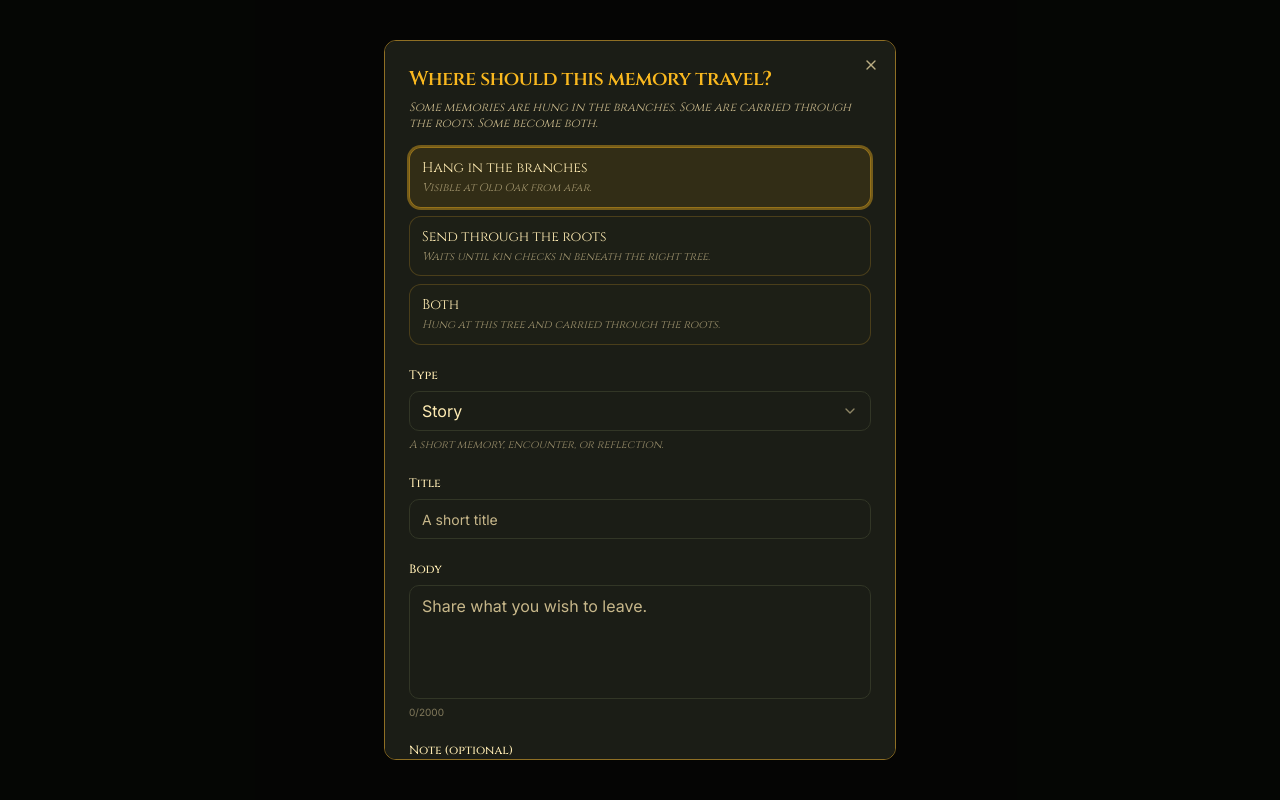
Test case: MemorySeedComposer submit flow › 3. both success — one of each insert + send, both events fire once
Click the text "Both".
click(441, 304)  # box 422,295 -> 459,314
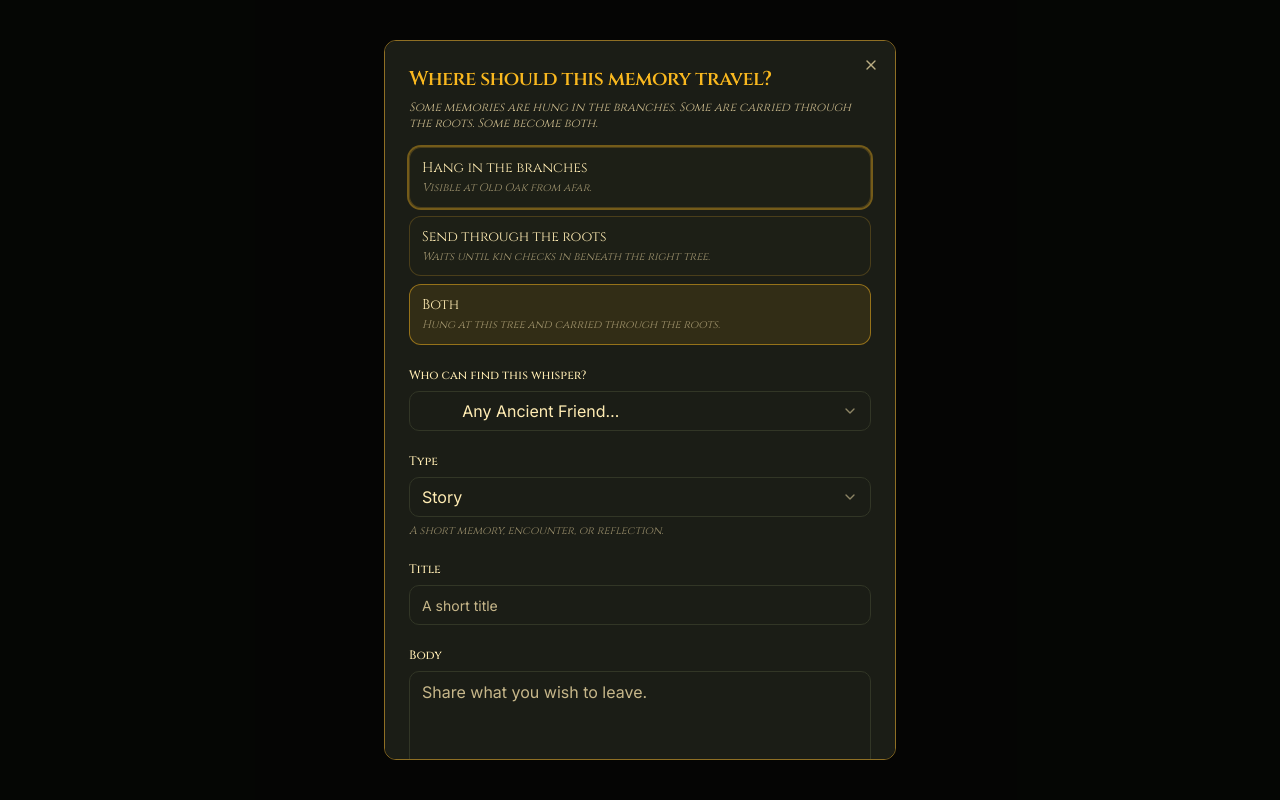
Type "Hello" into the field labelled "Title".
click(640, 605); type("Hello")  # box 409,585 -> 871,625
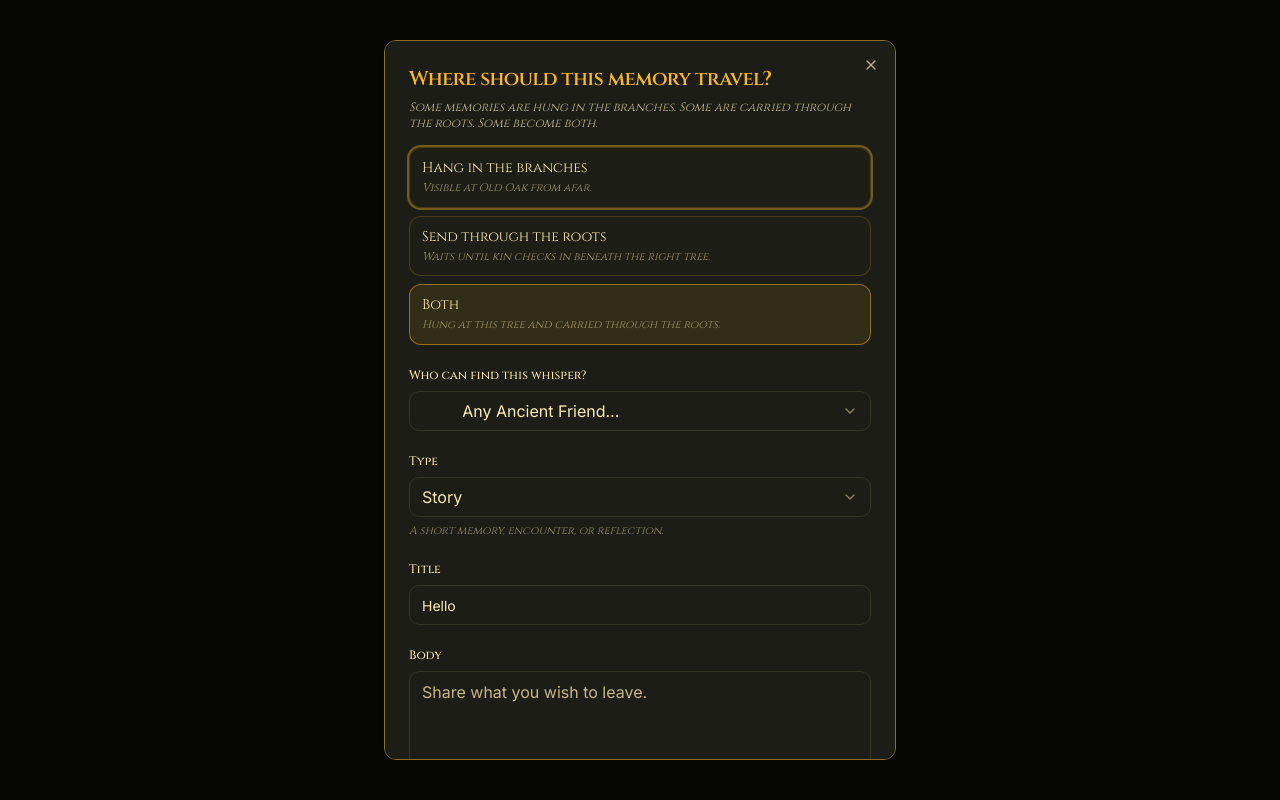
Type "Body text" into the text box labelled "Body".
click(640, 728); type("Body text")  # box 409,671 -> 871,785
(page scrolled)
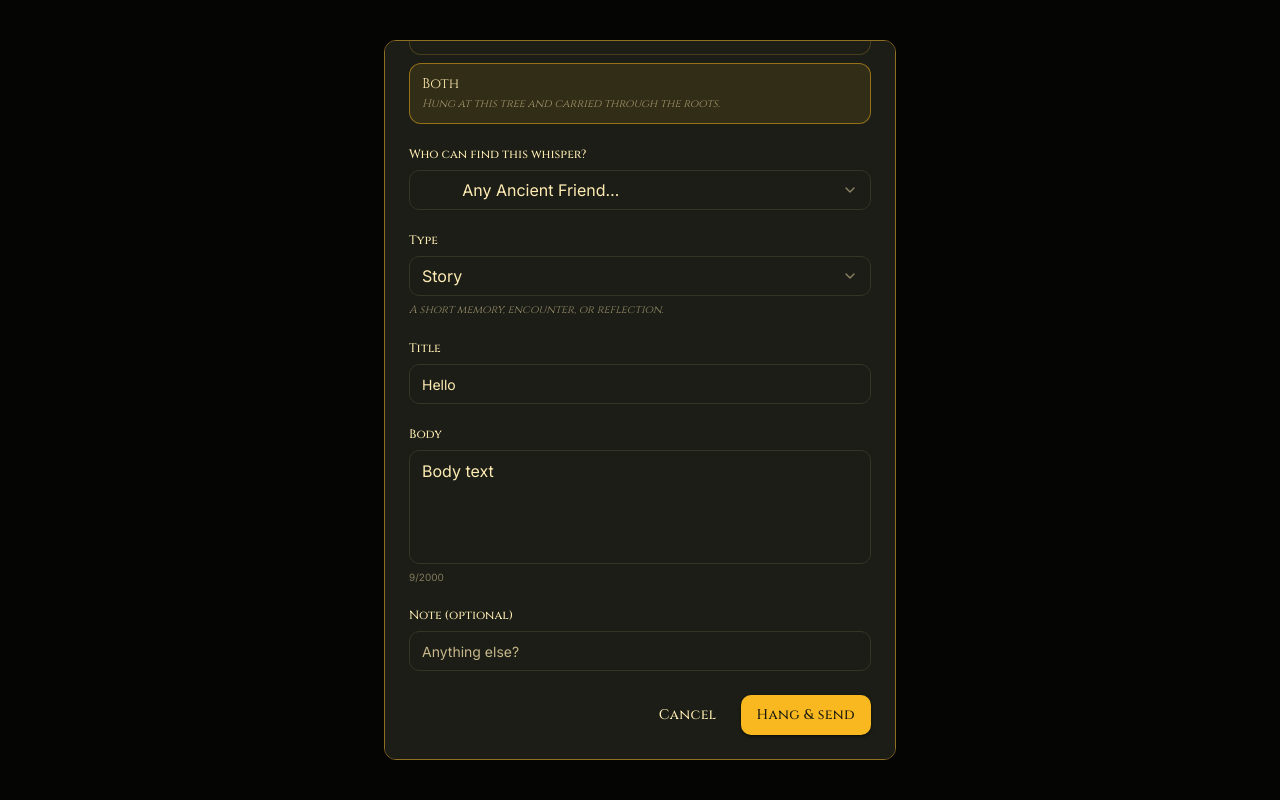
Click the button "Hang & send".
click(806, 715)  # box 740,695 -> 871,735
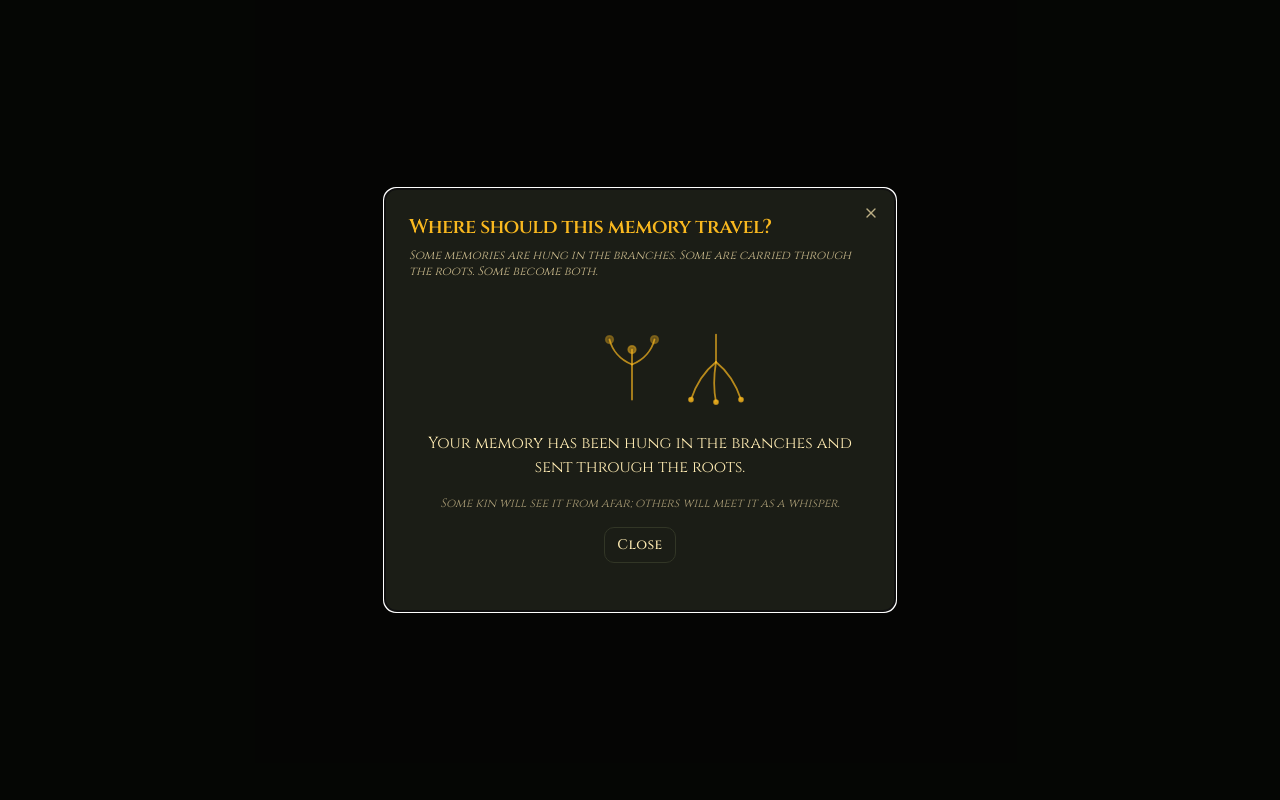
Now the text "hung in the branches and sent through the roots" is shown, box 428,432 -> 852,478
